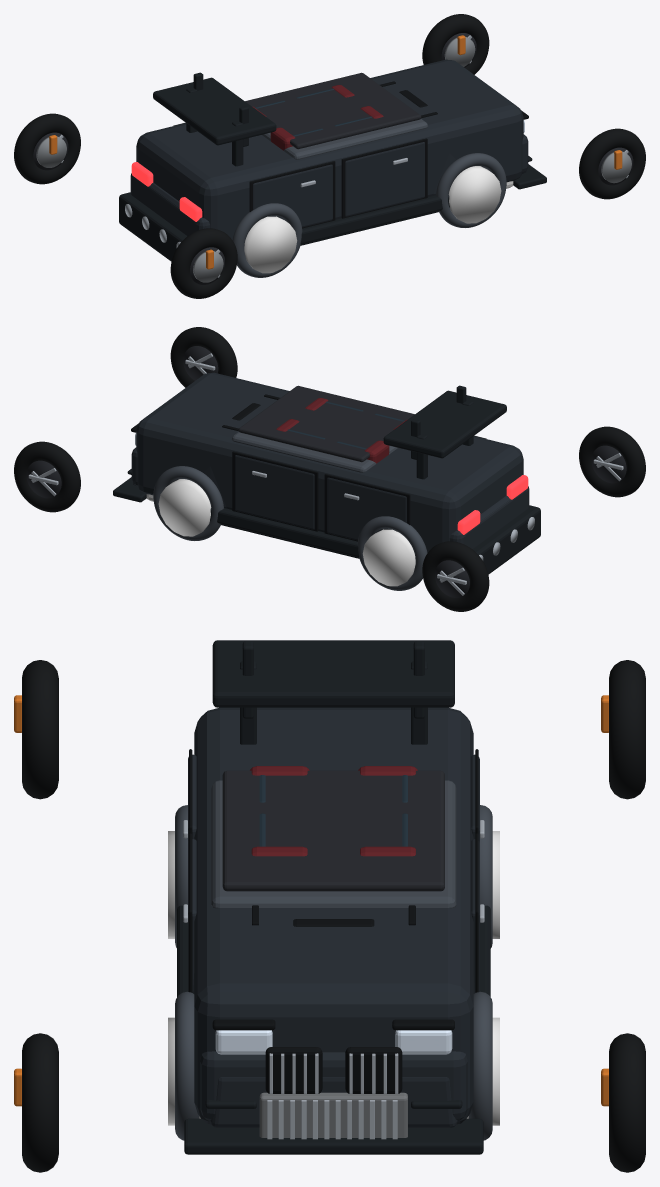
Rendered from BHC_VEH_328_NEON_DIESEL.fbx.
3 renders of one model, top to bottom at view 1: azimuth 30°, elevation 25°; view 2: azimuth 150°, elevation 25°; view 3: azimuth 270°, elevation 25°, orthographic. The views are drawn at different scales.
Visible parts, largest first — view 1: LOD1_BHC_328_Exterior, SM_BHC_328_Headliner, SM_BHC_328_Door_L_R, SM_BHC_328_RearWing, SM_BHC_328_Door_L_F, SM_BHC_328_Wheel_FL_Tire, SM_BHC_328_Wheel_RR_Tire, SM_BHC_328_Wheel_RL_Tire, COL_BHC_328_Wheel_RL, COL_BHC_328_Wheel_FL, SM_BHC_328_SideSkirt_L, SM_BHC_328_Wheel_FR_Tire (+13 smaller); view 2: LOD1_BHC_328_Exterior, SM_BHC_328_Headliner, SM_BHC_328_Door_R_R, SM_BHC_328_RearWing, SM_BHC_328_Door_R_F, SM_BHC_328_Wheel_FR_Tire, SM_BHC_328_Wheel_RL_Tire, SM_BHC_328_Wheel_RR_Tire, COL_BHC_328_Wheel_RR, COL_BHC_328_Wheel_FR, SM_BHC_328_SideSkirt_R, SM_BHC_328_Wheel_FL_Tire (+13 smaller); view 3: LOD1_BHC_328_Exterior, SM_BHC_328_Headliner, SM_BHC_328_RearWing, SM_BHC_328_FrontSplitter, SM_BHC_328_Roof, SM_BHC_328_FrontBumper, SM_BHC_328_Wheel_FL_Tire, SM_BHC_328_Wheel_FR_Tire, SM_BHC_328_Wheel_RL_Tire, SM_BHC_328_Wheel_RR_Tire, SM_BHC_328_Intercooler_Frame, SM_BHC_328_BodyShell (+18 smaller).
Part boxes in pixels (x1,y1,x2,y2): LOD1_BHC_328_Exterior: [136, 59, 523, 239]; SM_BHC_328_Headliner: [245, 72, 421, 149]; SM_BHC_328_Door_L_R: [345, 142, 424, 216]; SM_BHC_328_RearWing: [153, 77, 276, 145]; SM_BHC_328_Door_L_F: [253, 164, 332, 227]; SM_BHC_328_Wheel_FL_Tire: [579, 128, 645, 199]; SM_BHC_328_Wheel_RR_Tire: [14, 113, 80, 184]; SM_BHC_328_Wheel_RL_Tire: [170, 228, 237, 298]; COL_BHC_328_Wheel_RL: [244, 216, 297, 273]; COL_BHC_328_Wheel_FL: [448, 166, 501, 223]; SM_BHC_328_SideSkirt_L: [300, 195, 449, 244]; SM_BHC_328_Wheel_FR_Tire: [422, 14, 489, 74]; LOD1_BHC_328_Exterior: [136, 372, 523, 552]; SM_BHC_328_Headliner: [238, 385, 414, 462]; SM_BHC_328_Door_R_R: [235, 455, 314, 529]; SM_BHC_328_RearWing: [383, 390, 506, 458]; SM_BHC_328_Door_R_F: [327, 477, 406, 540]; SM_BHC_328_Wheel_FR_Tire: [14, 441, 80, 512]; SM_BHC_328_Wheel_RL_Tire: [579, 426, 645, 497]; SM_BHC_328_Wheel_RR_Tire: [422, 541, 489, 611]; COL_BHC_328_Wheel_RR: [362, 529, 415, 586]; COL_BHC_328_Wheel_FR: [158, 479, 211, 536]; SM_BHC_328_SideSkirt_R: [210, 508, 359, 557]; SM_BHC_328_Wheel_FL_Tire: [170, 327, 237, 387]; LOD1_BHC_328_Exterior: [194, 707, 473, 1124]; SM_BHC_328_Headliner: [222, 770, 444, 891]; SM_BHC_328_RearWing: [212, 640, 454, 707]; SM_BHC_328_FrontSplitter: [184, 1118, 483, 1154]; SM_BHC_328_Roof: [211, 780, 456, 908]; SM_BHC_328_FrontBumper: [200, 1051, 467, 1120]; SM_BHC_328_Wheel_FL_Tire: [22, 1033, 58, 1172]; SM_BHC_328_Wheel_FR_Tire: [609, 1033, 645, 1172]; SM_BHC_328_Wheel_RL_Tire: [22, 660, 58, 799]; SM_BHC_328_Wheel_RR_Tire: [609, 660, 645, 799]; SM_BHC_328_Intercooler_Frame: [259, 1092, 407, 1137]; SM_BHC_328_BodyShell: [193, 973, 474, 1127].
Size of the model in its own units: 7.18 by 2.3 by 4.43.
